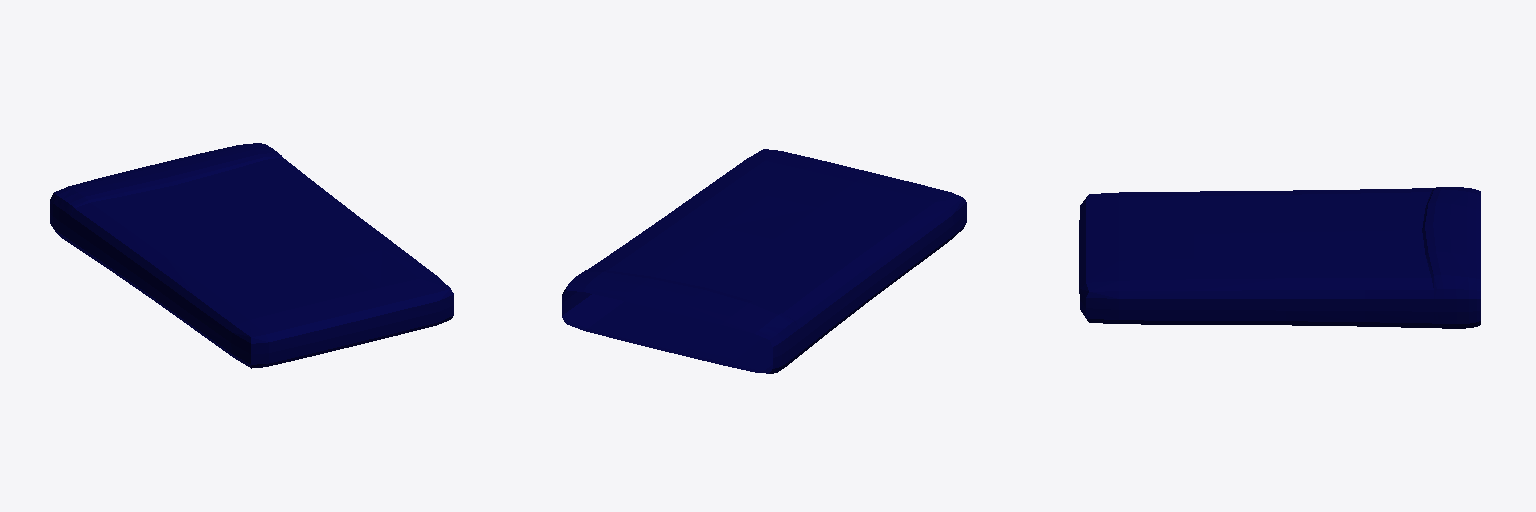
File: lozkoC2.obj
3 renders of one model, left to right at view 1: azimuth 30°, elevation 25°; view 2: azimuth 150°, elevation 25°; view 3: azimuth 270°, elevation 25°, orthographic.
Visible parts, largest first — view 1: Bed_Single.004_Cube.004_Bed_Single.004_Cube.001; view 2: Bed_Single.004_Cube.004_Bed_Single.004_Cube.001; view 3: Bed_Single.004_Cube.004_Bed_Single.004_Cube.001.
Boxes of the visible parts, x1=… form: Bed_Single.004_Cube.004_Bed_Single.004_Cube.001: x1=50, y1=143, x2=453, y2=368; Bed_Single.004_Cube.004_Bed_Single.004_Cube.001: x1=562, y1=149, x2=966, y2=373; Bed_Single.004_Cube.004_Bed_Single.004_Cube.001: x1=1079, y1=187, x2=1480, y2=328.
Size of the model in its own units: 2.01 by 0.445 by 3.2.